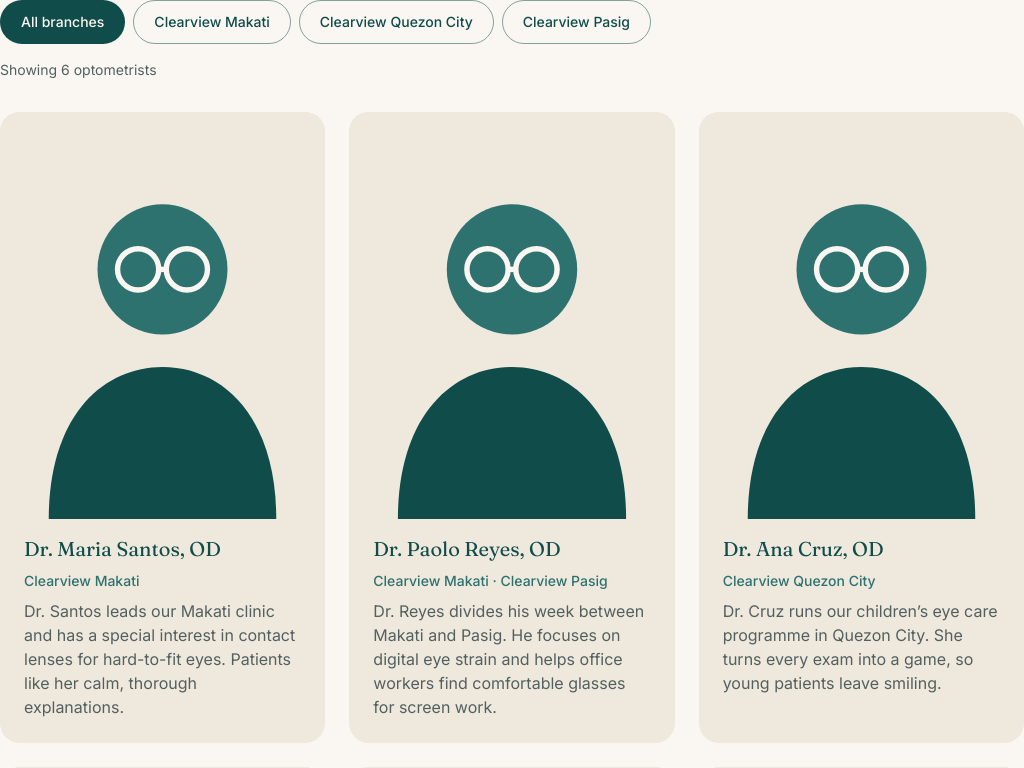
Scenario: OptometristDirectory › announces how many optometrists are shown
Expected: the message reads "Showing 6 optometrists", [0, 61, 156, 78]
Click the button "Clearview Makati" at (212, 22), box [133, 0, 291, 44]
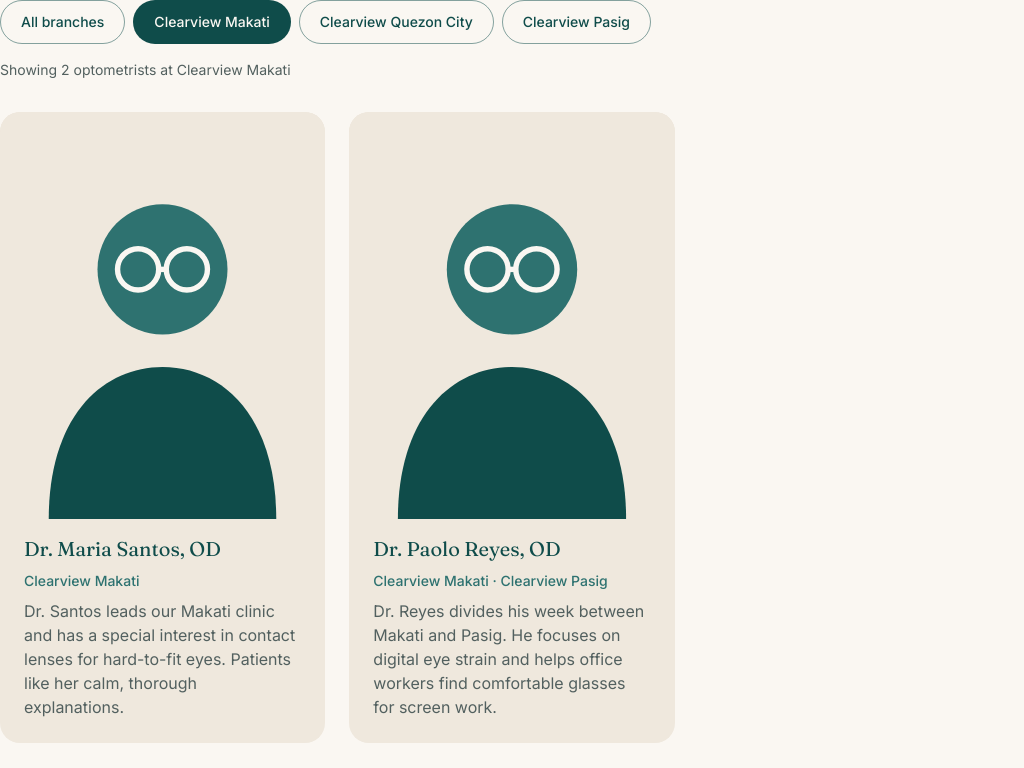
Expected: the message reads "Showing 2 optometrists at Clearview Makati", [0, 61, 290, 78]
